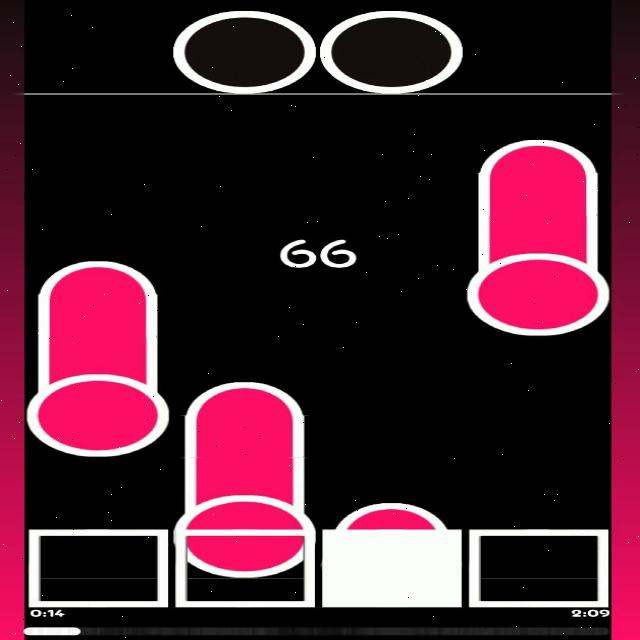end_hold: (36, 252, 166, 301), (476, 130, 599, 180), (181, 375, 306, 418), (330, 494, 455, 528)
note: (318, 6, 464, 95), (171, 6, 316, 92)
start_hold: (461, 234, 610, 338), (28, 359, 165, 458), (171, 485, 316, 578)
